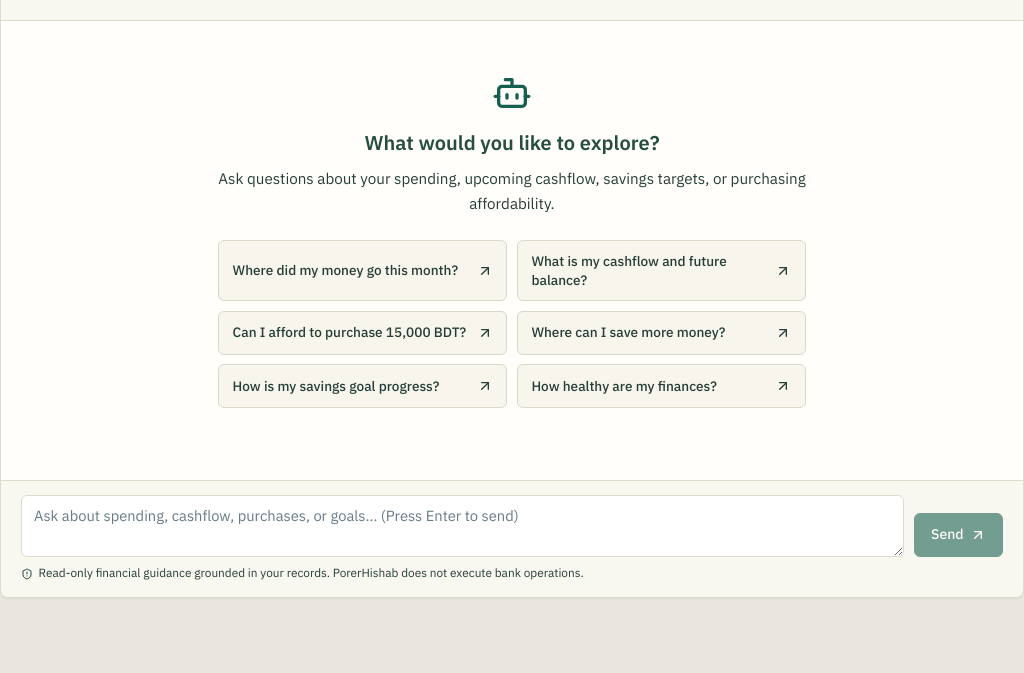
FinancialCoach frontend component › offers status checks rather than retry while the server is still processing
Type "Processing question" into the text box named "Ask your financial coach" at (463, 526), box [21,495,904,557]
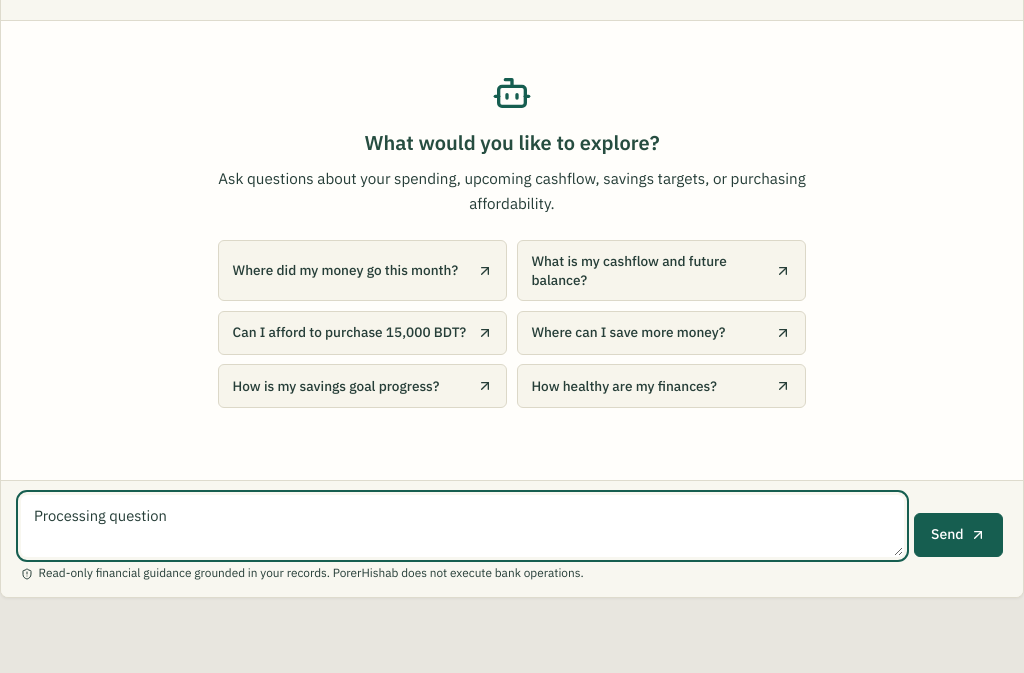
Click the button with aria-label "Send question" at (958, 535), box [914,513,1003,557]
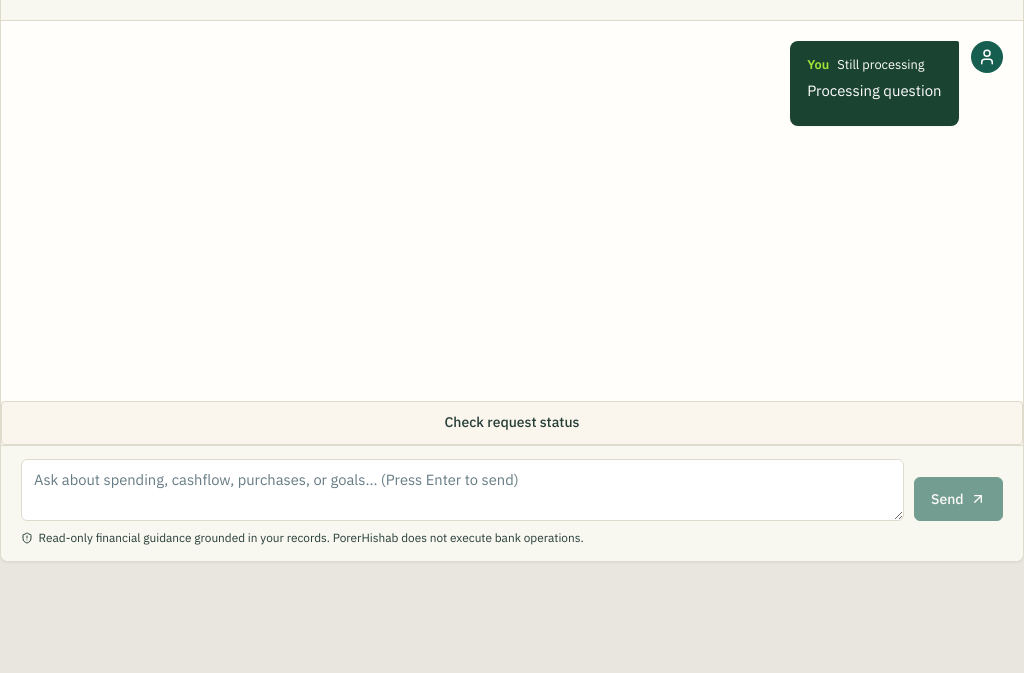
Now the text "Still processing" is shown, box [837,55,925,74]
Click the button "Check request status" at (512, 422), box [1,400,1023,444]
(page scrolled)
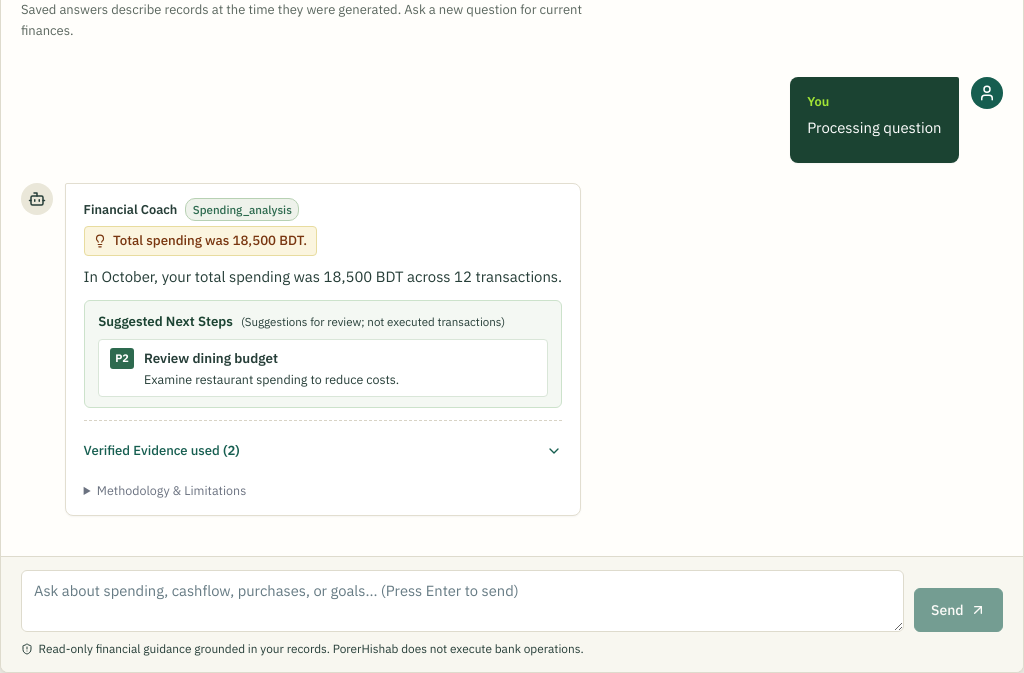
Now the text "In October, your total spending was 18,500 BDT across 12 transactions." is shown, box [84,266,562,288]
